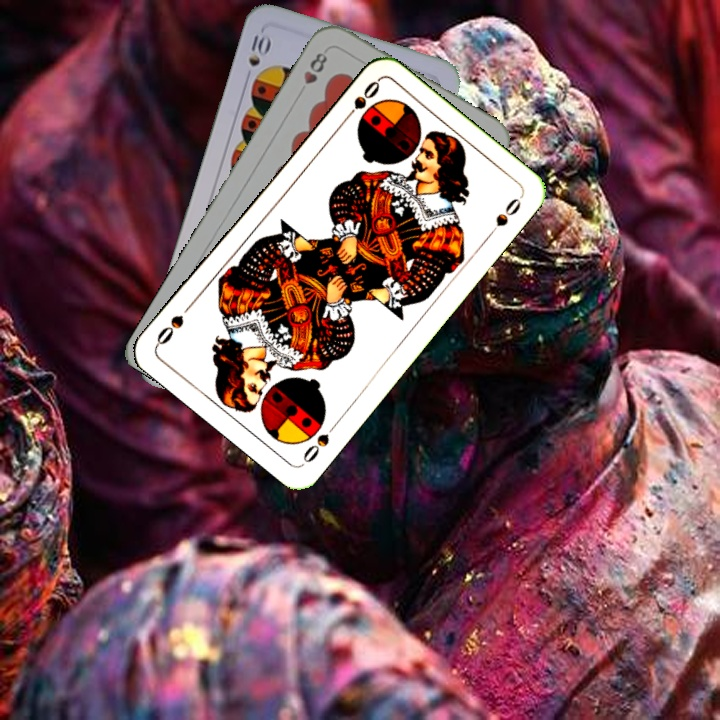H8: (299, 48, 330, 88)
S10: (244, 27, 273, 69)
SO: (338, 77, 383, 126), (299, 418, 341, 466)
